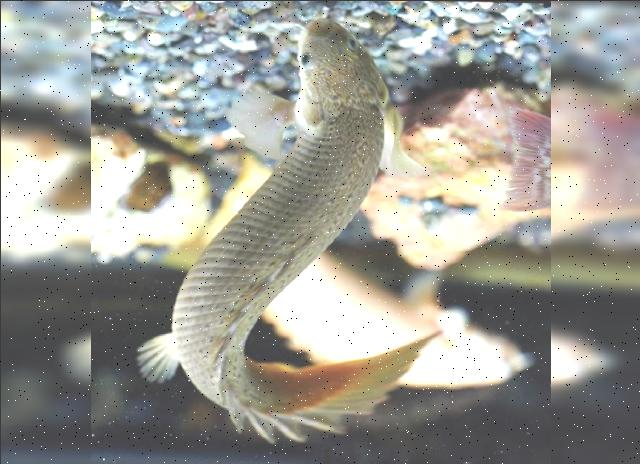Sirip Dada: (208, 70, 444, 204)
Sirip Ekor: (298, 318, 460, 446)
Sirip Perut: (127, 315, 181, 393)
Sirip Punggung: (196, 226, 302, 452)
